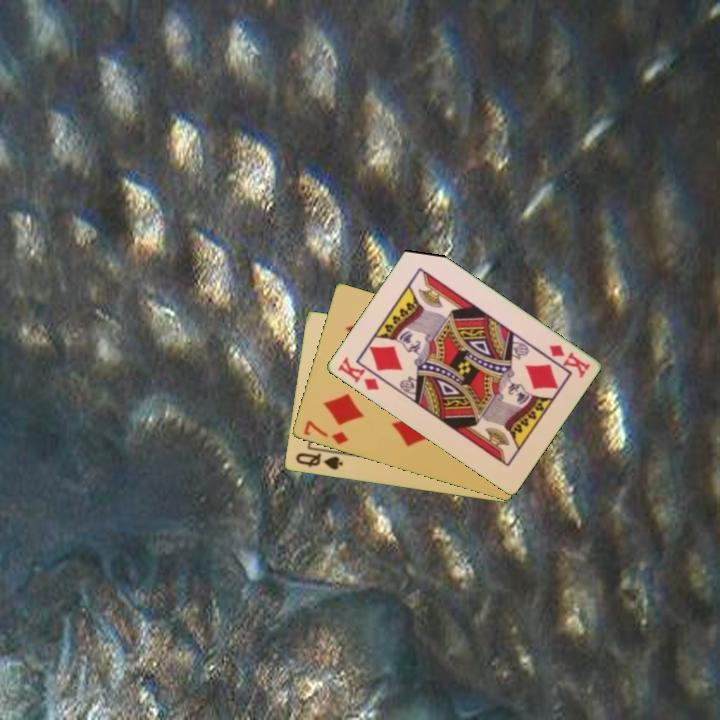7d: (300, 417, 351, 447)
Kd: (334, 353, 388, 393), (545, 341, 593, 381)
Qs: (292, 449, 345, 473)
